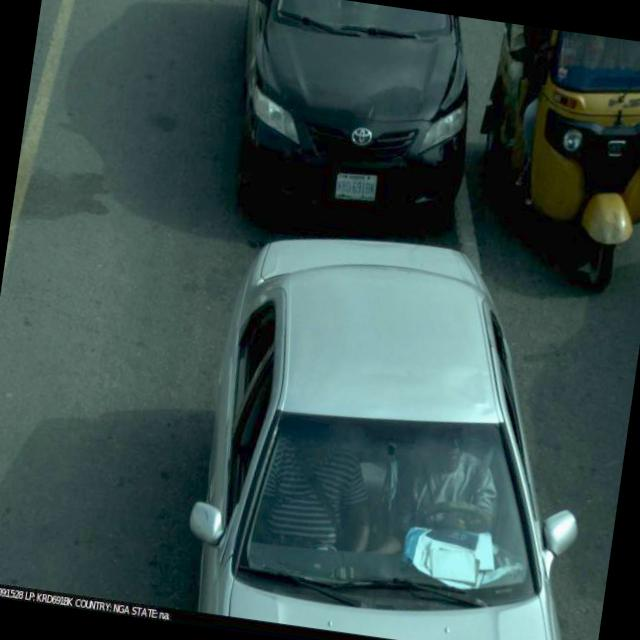person_with_seatbelt: (388, 408, 512, 554)
